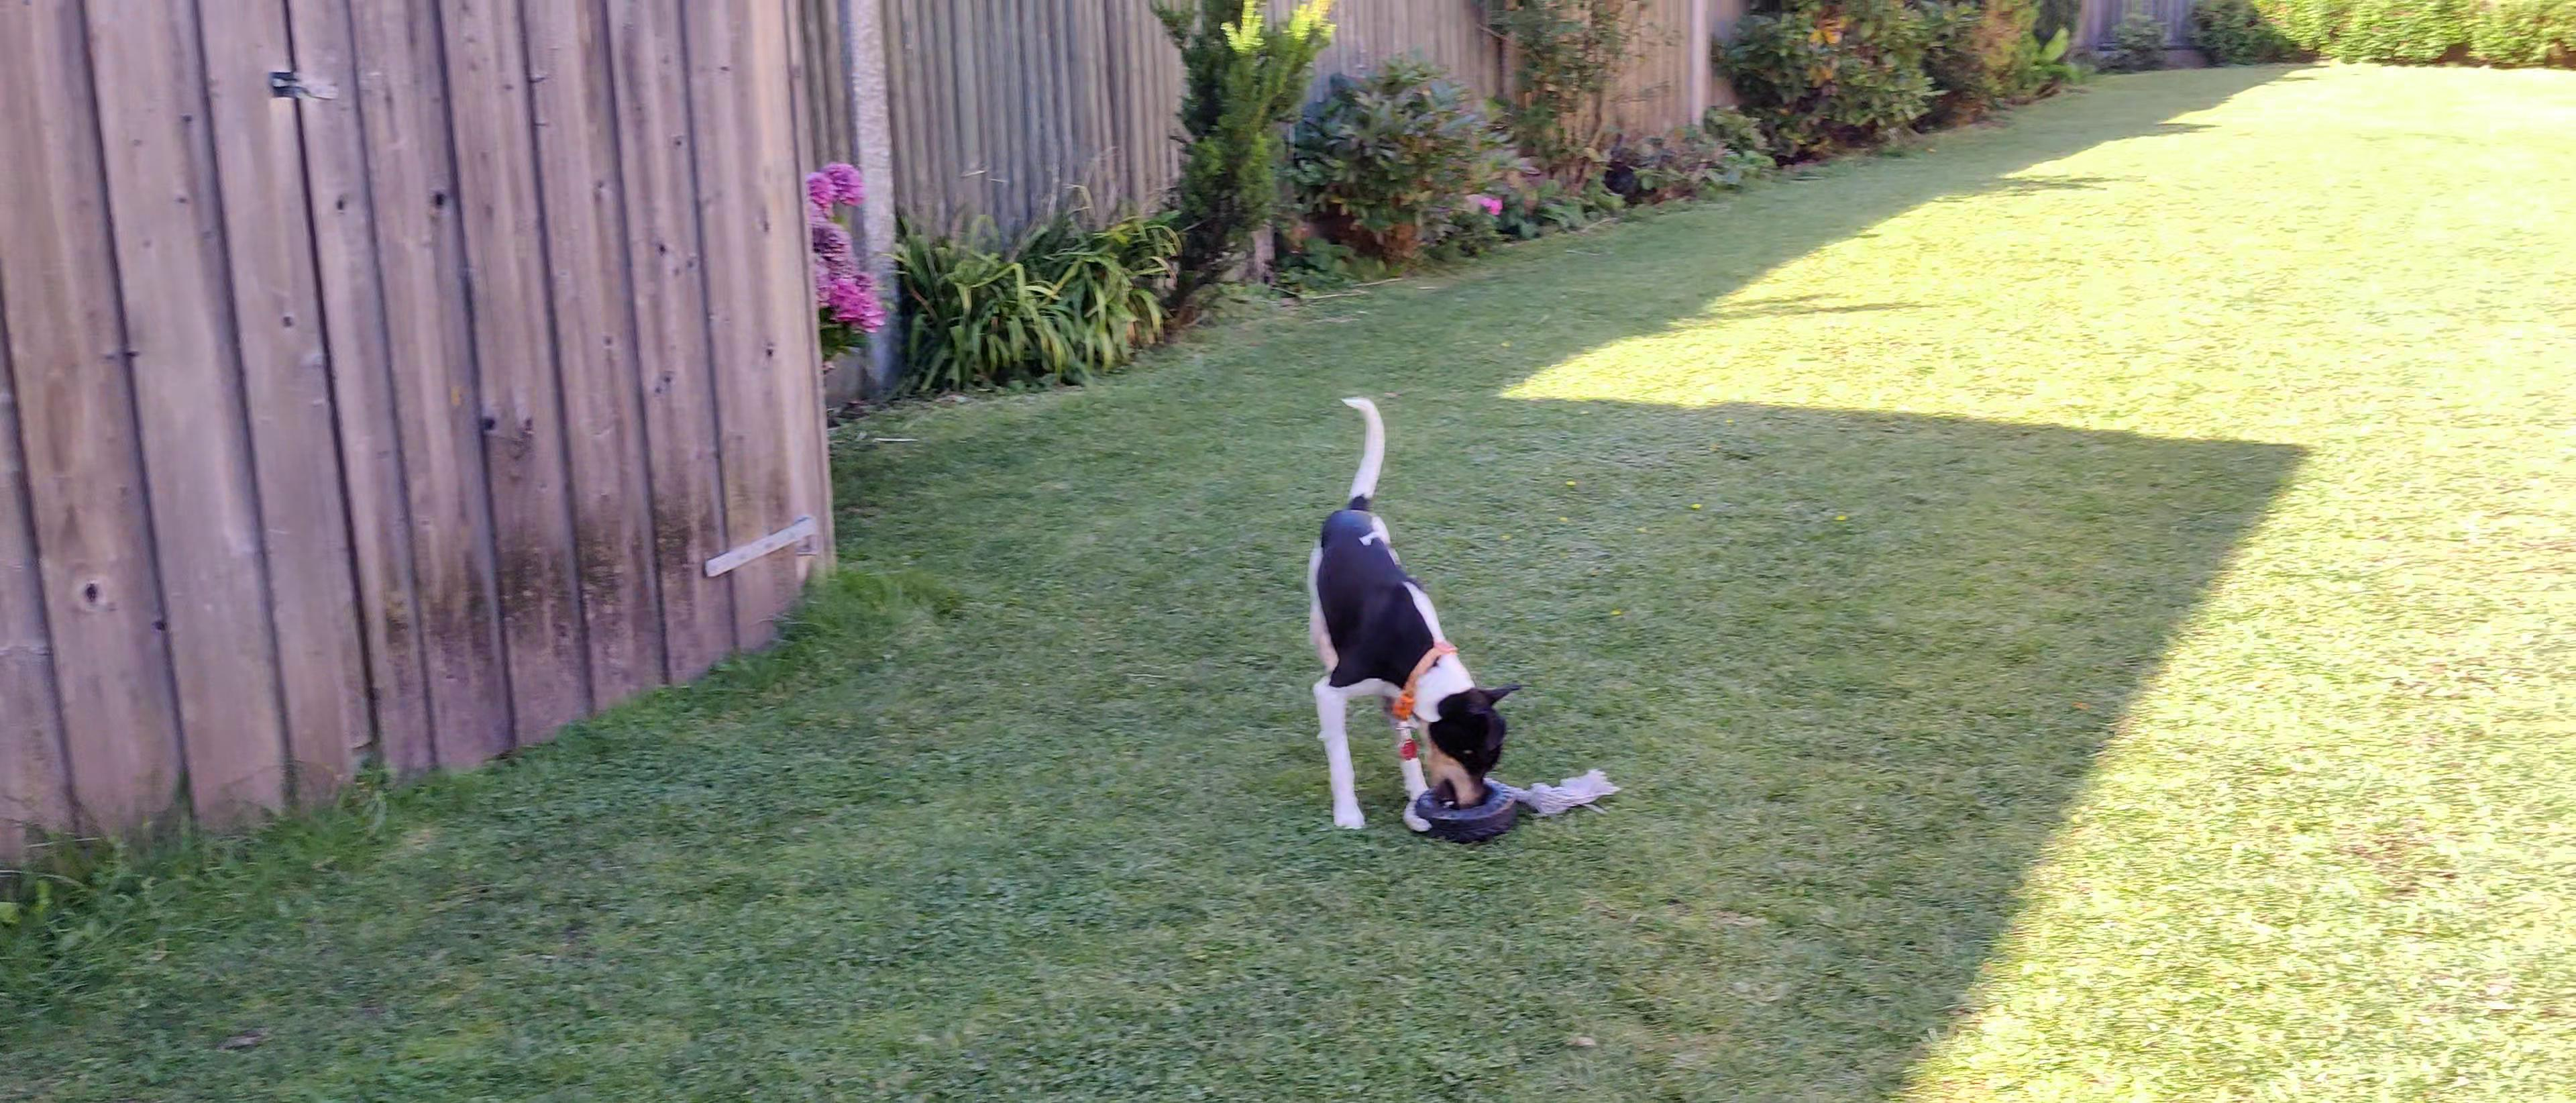Dog: (1257, 357, 1523, 870)
